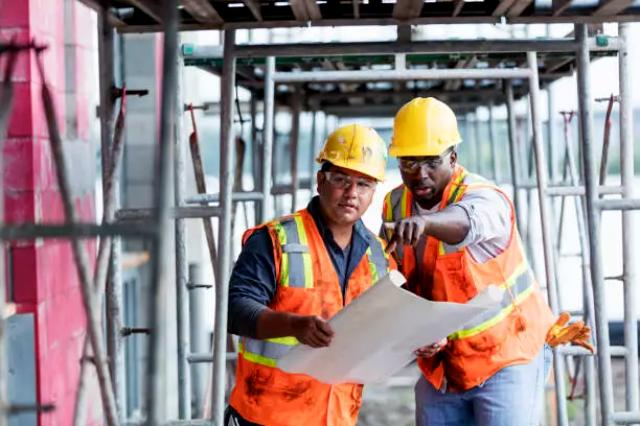helmet: (313, 124, 387, 184), (386, 98, 460, 156)
vest: (388, 178, 542, 369), (255, 214, 365, 426)
